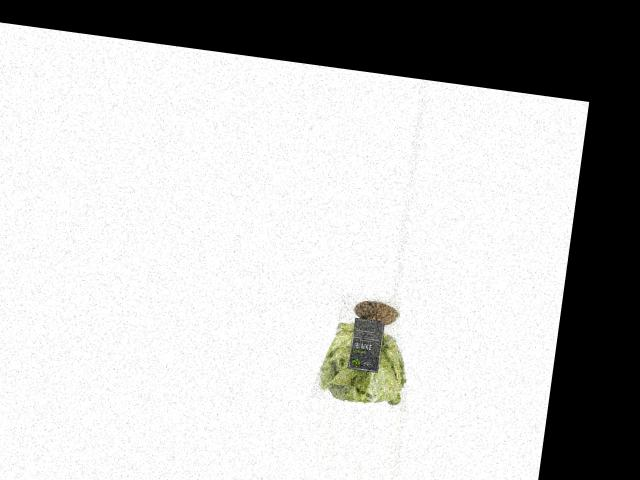lettuce: (312, 288, 420, 410)
